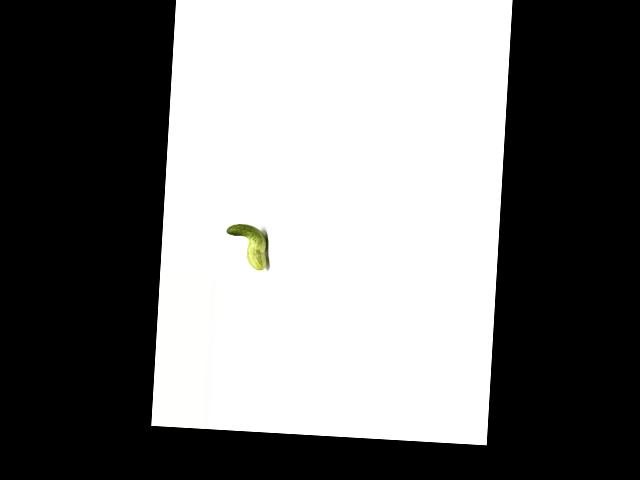cucumber: (224, 222, 269, 270)
